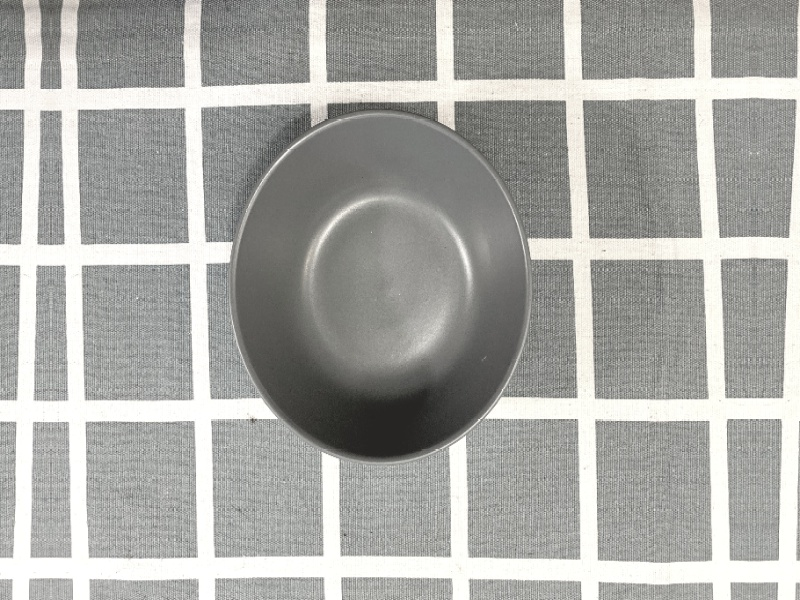bowl_big: (209, 95, 540, 470)
